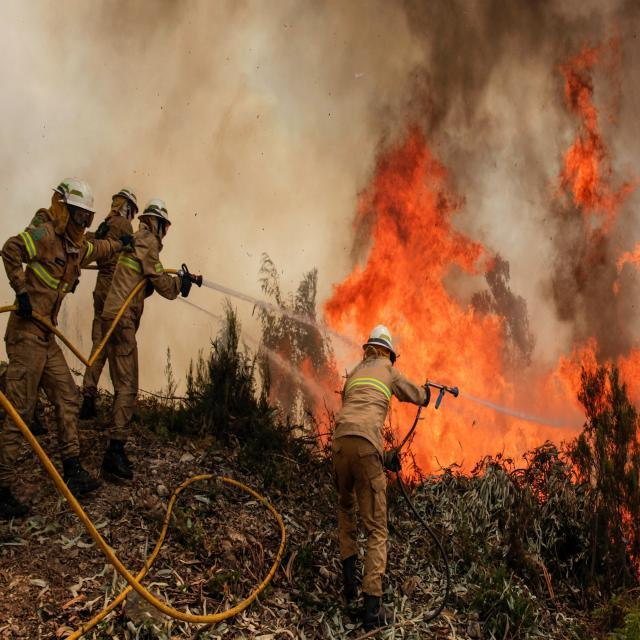Fire: (296, 110, 509, 493), (509, 329, 640, 583), (554, 25, 639, 247)
Smoke: (377, 0, 556, 156), (546, 247, 640, 358), (552, 0, 640, 66)
